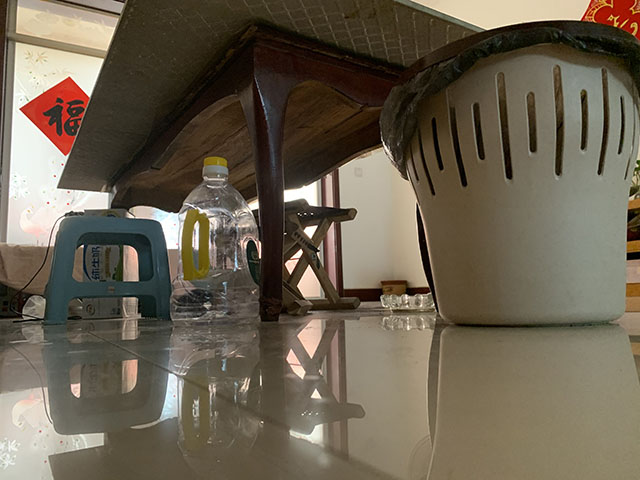stool: (42, 216, 173, 323), (252, 198, 363, 317)
table: (56, 1, 487, 322)
trashcan: (377, 19, 640, 329)
wire: (8, 211, 65, 324)
